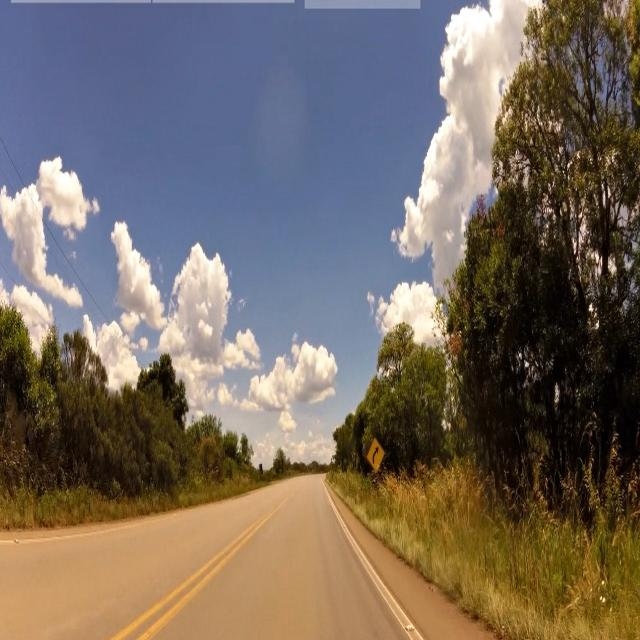A-2b: (367, 436, 386, 473)
